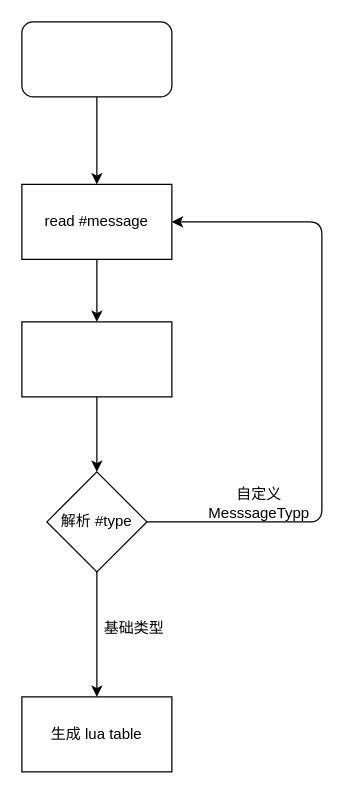
This 354x794 diagram has some shape labels left out. The shapes that lost their labels are listed below. From the top down, each one's box as (x1, y1, x2, y2) in pixels, then its label:
(21, 21, 172, 97): #config
(21, 321, 172, 397): read #var
